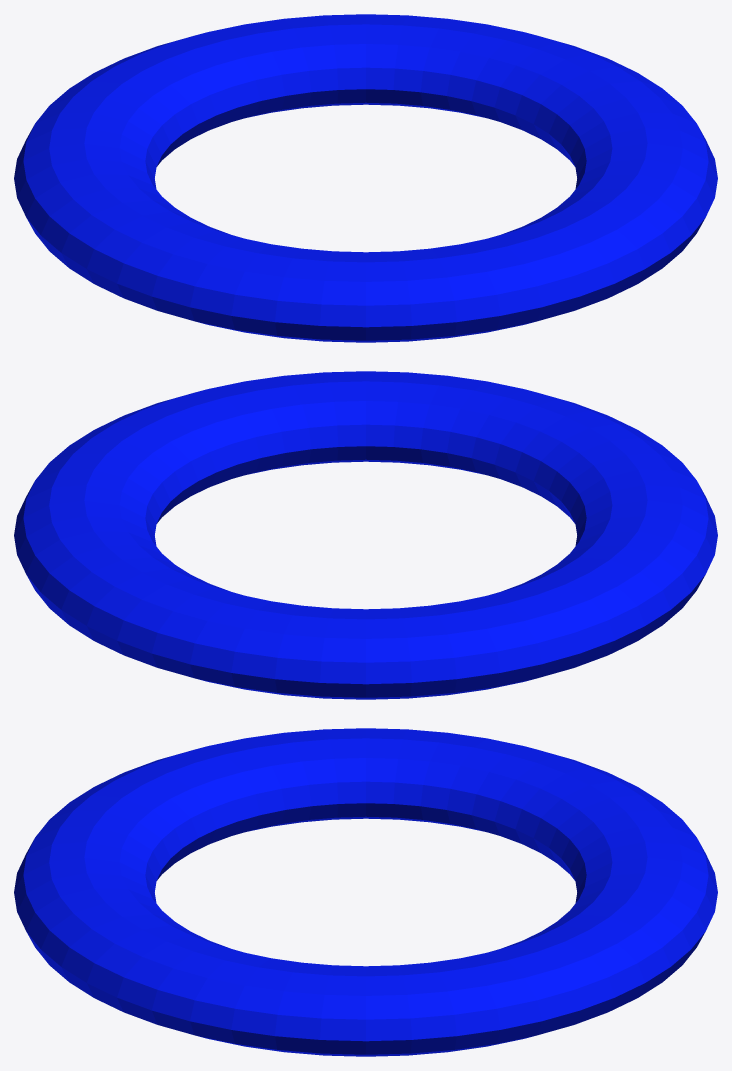
Rendered from ring.fbx.
3 renders of one model, top to bottom at view 1: azimuth 30°, elevation 25°; view 2: azimuth 150°, elevation 25°; view 3: azimuth 270°, elevation 25°, orthographic.
Parts seen in each view (by area): view 1: Torus; view 2: Torus; view 3: Torus.
Boxes of the visible parts, x1,y1,x2,y2 form: Torus: (14,14,717,342); Torus: (14,371,717,699); Torus: (14,728,717,1056).
Size of the model in its own units: 1250 by 138 by 1250.
